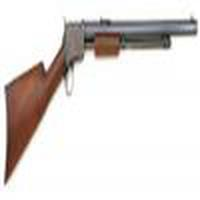gun: (3, 12, 200, 184)
